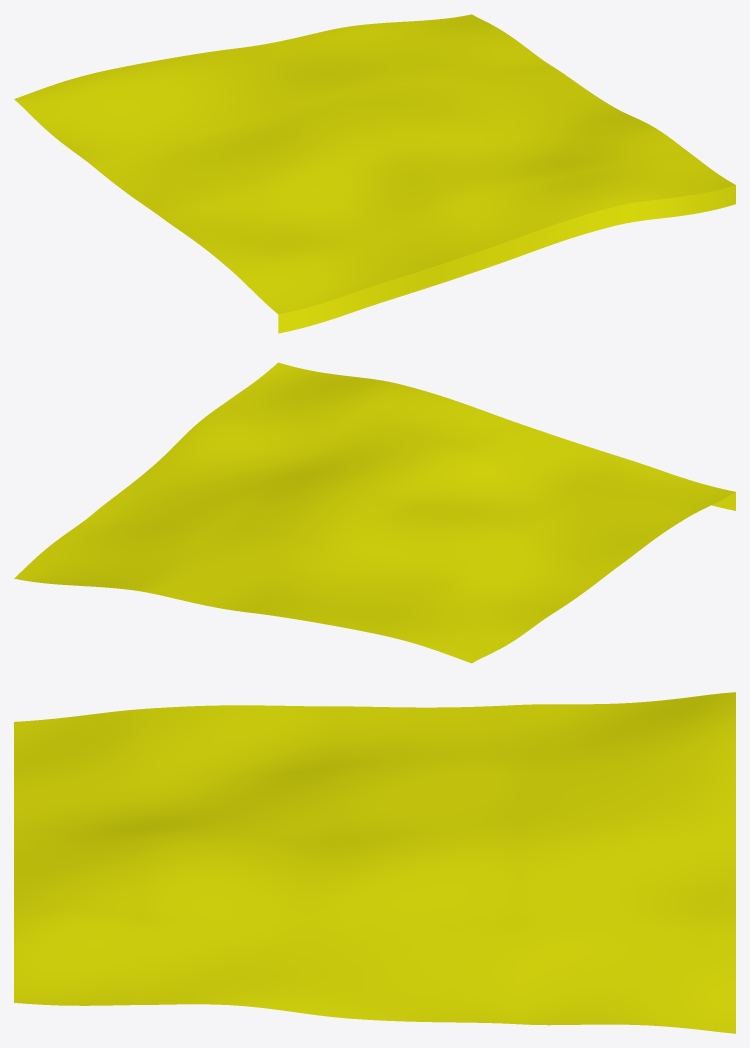
Rendered from terrain_1_0.glb.
3 views of the same model, one above another, from view 1: azimuth 30°, elevation 25°; view 2: azimuth 150°, elevation 25°; view 3: azimuth 270°, elevation 25° (orthographic). The views are drawn at different scales.
Parts seen in each view (by area): view 1: terrain_1_0.0, terrain_1_0.1; view 2: terrain_1_0.0; view 3: terrain_1_0.0.
Boxes of the visible parts, bbox=[...] form: terrain_1_0.0: bbox=[14, 14, 735, 314]; terrain_1_0.1: bbox=[278, 185, 735, 333]; terrain_1_0.0: bbox=[14, 362, 735, 663]; terrain_1_0.0: bbox=[14, 692, 735, 1033].
Bounding box in the file's own units: 50 × 5.01 × 50.
